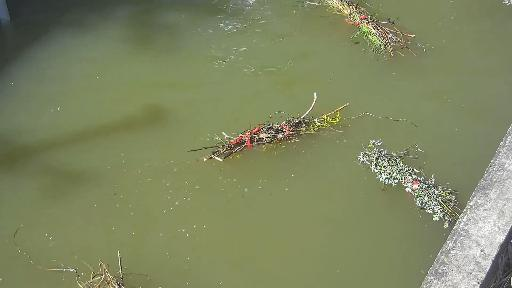twig: (195, 90, 392, 173), (365, 131, 480, 221), (280, 0, 424, 66), (11, 238, 139, 288)
